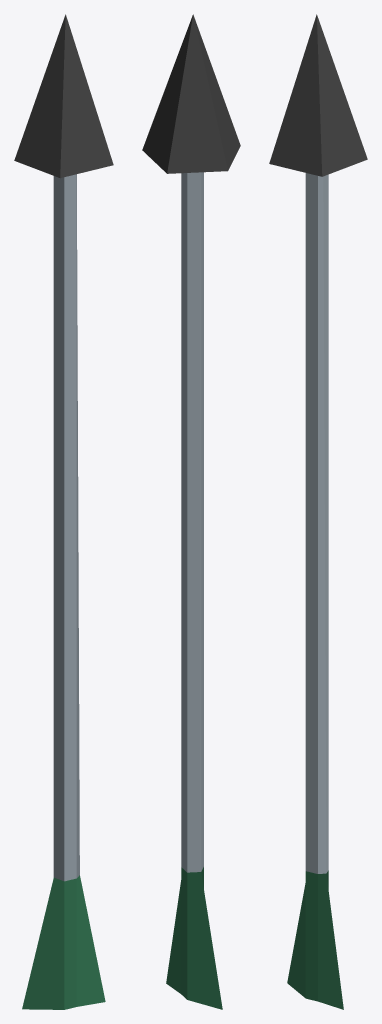
The model's file is Arrow.fbx.
The picture shows the model from 3 angles, left to right: view 1: azimuth 30°, elevation 25°; view 2: azimuth 150°, elevation 25°; view 3: azimuth 330°, elevation 25°; orthographic projection.
Visible parts, largest first — view 1: Cylinder; view 2: Cylinder; view 3: Cylinder.
Boxes of the visible parts, <box> form: Cylinder: <box>14,14,113,1009</box>; Cylinder: <box>142,14,240,1009</box>; Cylinder: <box>269,14,367,1009</box>.
Bounding box in the file's own units: 9.4 × 103 × 8.94.
